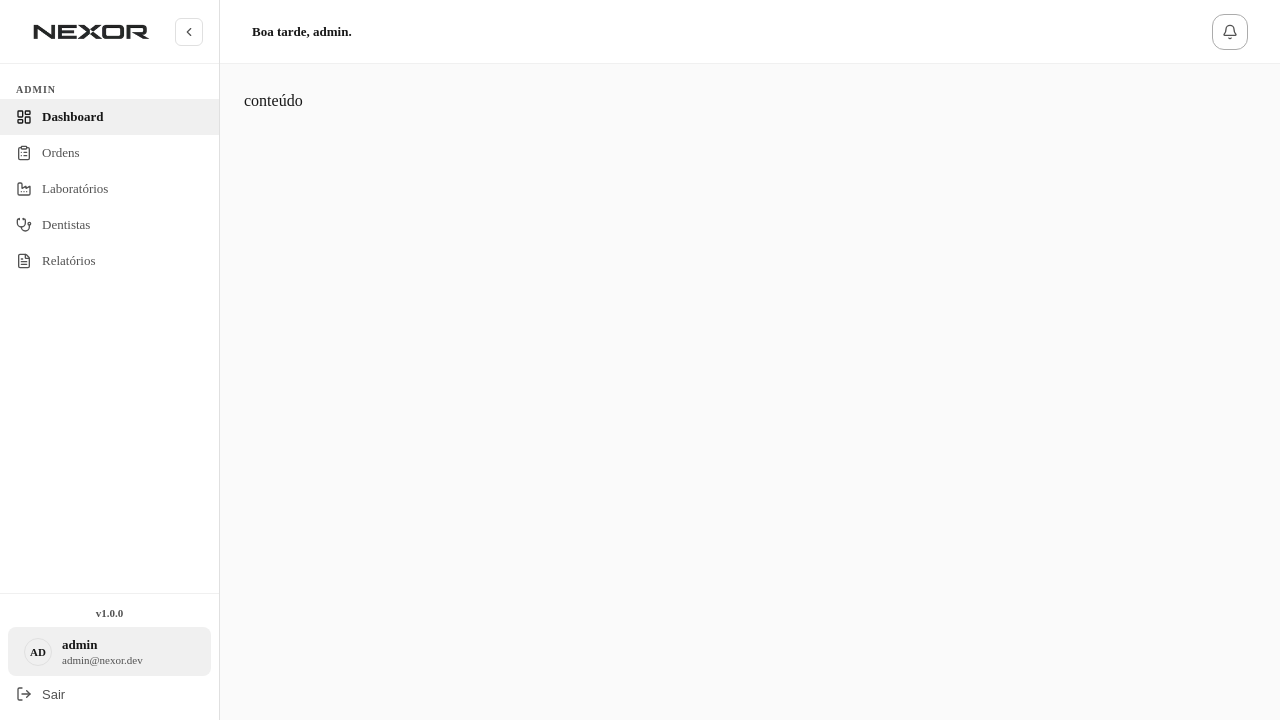
PortalLayout navigation › shows an empty state when no notifications are available
This screenshot has width=1280, height=720.
Click the button named "notificações" at (1230, 32), box [1212, 14, 1248, 50]
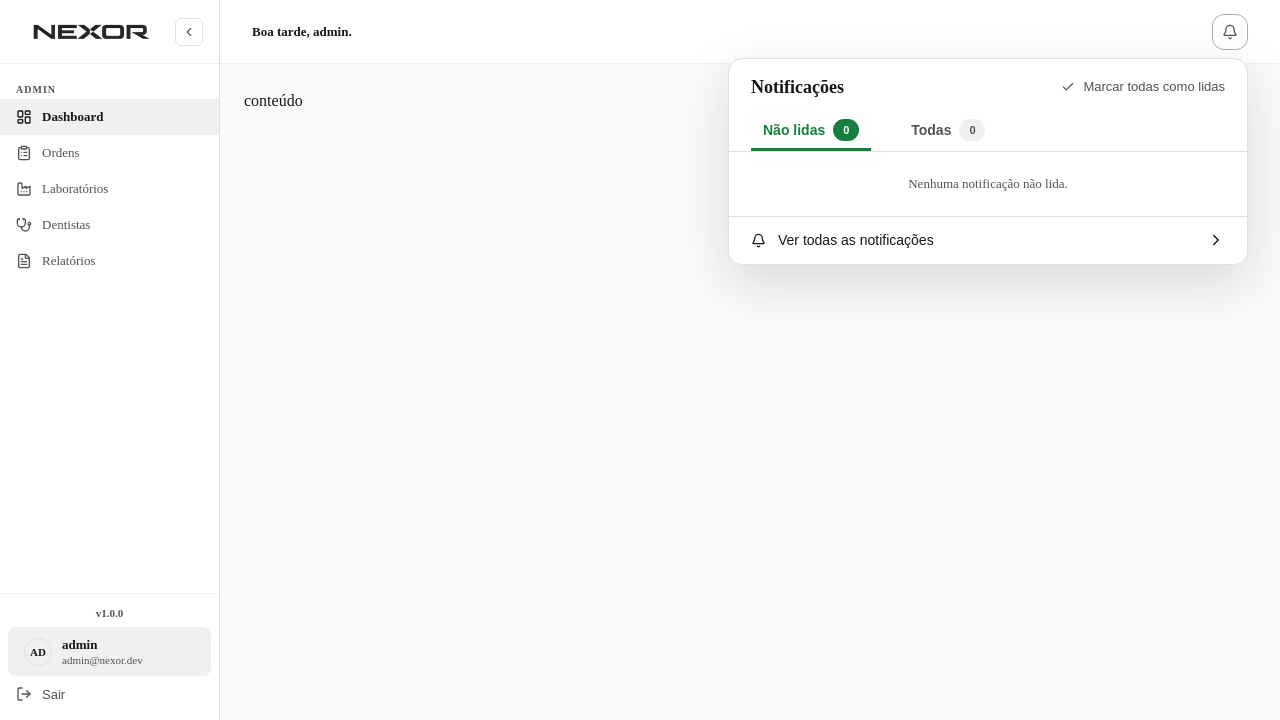
Expected: the text "Nenhuma notificação não lida." is shown, [908, 176, 1068, 191]
Expected: the tab "Não lidas 0" is shown, [751, 111, 871, 151]
Expected: the tab "Todas 0" is shown, [899, 111, 998, 151]
